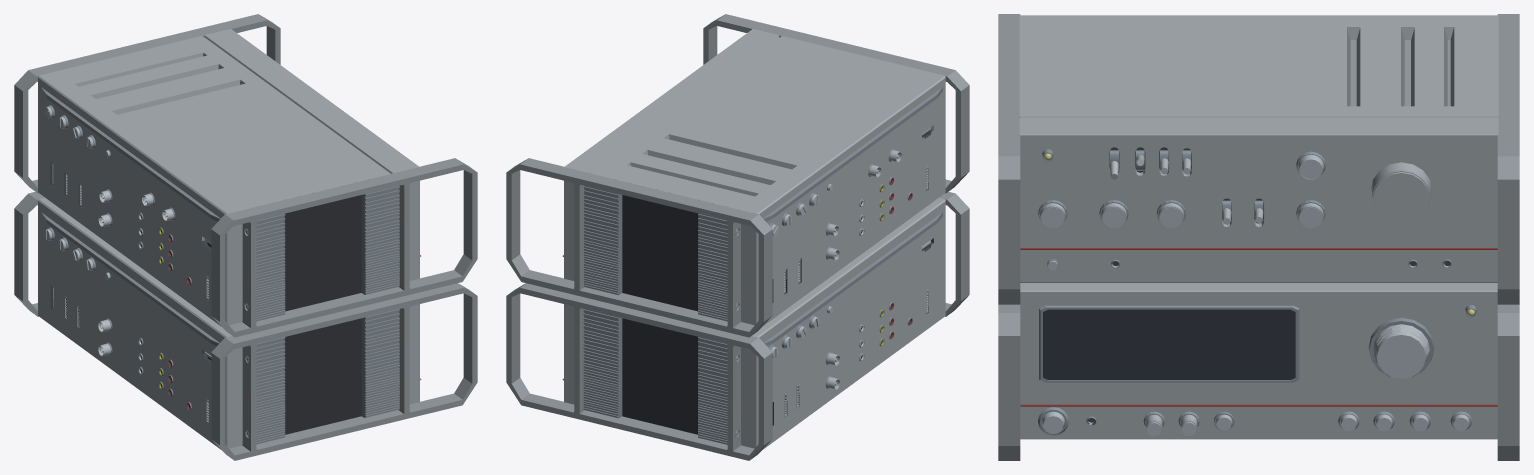
Rendered from maya2sketchfab.fbx.
3 renders of one model, left to right at view 1: azimuth 30°, elevation 25°; view 2: azimuth 150°, elevation 25°; view 3: azimuth 270°, elevation 25°, orthographic. The views are drawn at different scales.
Parts seen in each view (by area): view 1: pCube163, pCube164, pCube111, pCube99, pCube108, pCube60, pCube57, pCube59, pCube58, pCube94, pCube167, pCube168; view 2: pCube163, pCube164, pCube108, pCube94, pCube111, pCube55, pCube61, pCube56, pCube62, pCube99, pCube167, pCube168; view 3: pCube163, pCube164, pCube68, pCube111, pCube108, pCube99, pCube94, pCylinder17, pCube69, pCylinder10, pCylinder55, pCylinder19.
Boxes of the visible parts, x1=… form: pCube163: x1=38, y1=29, x2=421, y2=326; pCube164: x1=38, y1=197, x2=421, y2=449; pCube111: x1=211, y1=158, x2=477, y2=337; pCube99: x1=211, y1=283, x2=477, y2=460; pCube108: x1=14, y1=14, x2=280, y2=193; pCube60: x1=361, y1=186, x2=399, y2=294; pCube57: x1=361, y1=309, x2=399, y2=417; pCube59: x1=256, y1=213, x2=285, y2=321; pCube58: x1=256, y1=337, x2=285, y2=444; pCube94: x1=14, y1=192, x2=44, y2=316; pCube167: x1=41, y1=87, x2=220, y2=221; pCube168: x1=41, y1=212, x2=219, y2=346; pCube163: x1=562, y1=29, x2=945, y2=326; pCube164: x1=562, y1=197, x2=945, y2=449; pCube108: x1=506, y1=158, x2=772, y2=337; pCube94: x1=506, y1=283, x2=772, y2=460; pCube111: x1=703, y1=14, x2=969, y2=193; pCube55: x1=583, y1=309, x2=622, y2=418; pCube61: x1=584, y1=185, x2=622, y2=295; pCube56: x1=698, y1=337, x2=727, y2=444; pCube62: x1=698, y1=213, x2=727, y2=321; pCube99: x1=939, y1=192, x2=969, y2=316; pCube167: x1=763, y1=87, x2=942, y2=221; pCube168: x1=764, y1=212, x2=942, y2=346; pCube163: x1=1019, y1=15, x2=1498, y2=282; pCube164: x1=1020, y1=283, x2=1497, y2=439; pCube68: x1=1043, y1=309, x2=1295, y2=379; pCube111: x1=998, y1=14, x2=1020, y2=304; pCube108: x1=1497, y1=14, x2=1519, y2=304; pCube99: x1=998, y1=304, x2=1020, y2=460; pCube94: x1=1497, y1=304, x2=1519, y2=460; pCylinder17: x1=1371, y1=162, x2=1431, y2=223; pCube69: x1=1039, y1=305, x2=1299, y2=382; pCylinder10: x1=1373, y1=324, x2=1429, y2=378; pCylinder55: x1=1368, y1=317, x2=1434, y2=377; pCylinder19: x1=1298, y1=154, x2=1323, y2=180.
Size of the model in its own units: 3.81 by 3.5 by 5.26.
